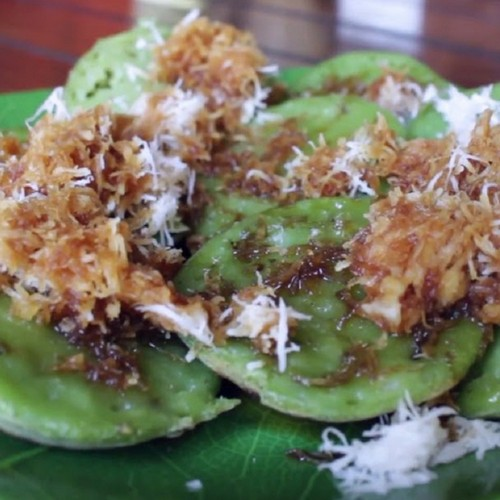laklak: (5, 68, 499, 465)
